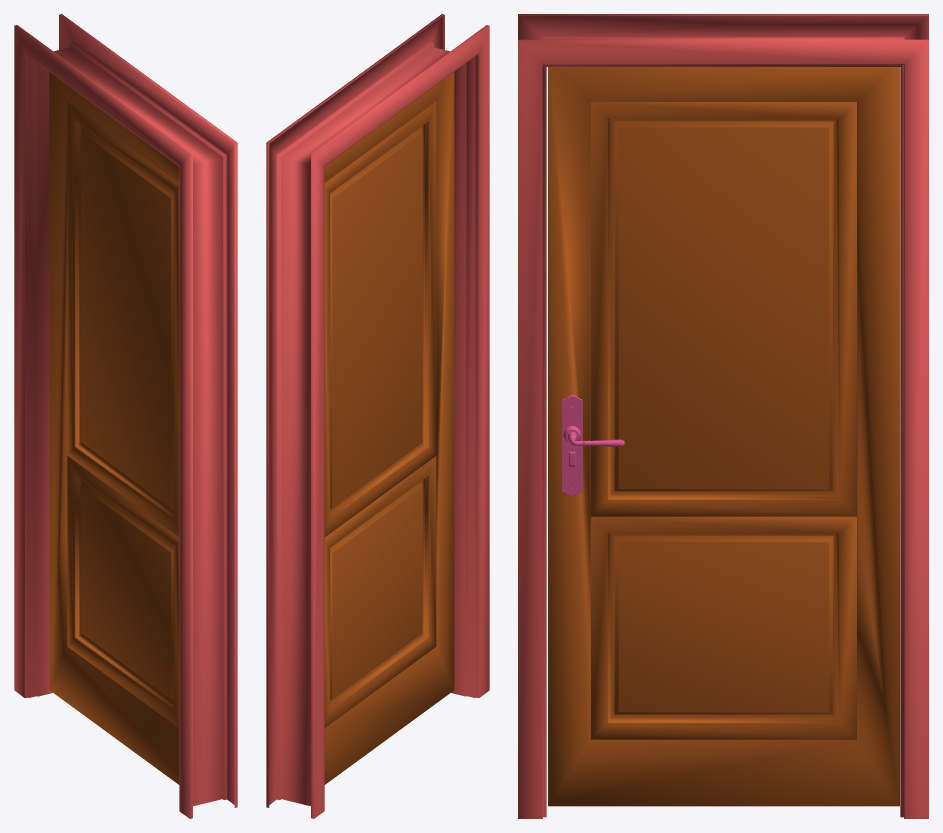
Rendered from Vintage-Door.obj.
3 views of the same model, side by side, from view 1: azimuth 30°, elevation 25°; view 2: azimuth 150°, elevation 25°; view 3: azimuth 270°, elevation 25° (orthographic). The views are drawn at different scales.
Parts seen in each view (by area): view 1: Door_Sheet001, Door_Panel001; view 2: Door_Sheet001, Door_Panel001; view 3: Door_Sheet001, Door_Panel001, Handle001.
Part boxes in pixels (x1,y1,x2,y2): Door_Sheet001: [49, 72, 179, 784]; Door_Panel001: [14, 14, 237, 818]; Door_Sheet001: [324, 72, 454, 784]; Door_Panel001: [266, 14, 489, 818]; Door_Sheet001: [548, 67, 899, 806]; Door_Panel001: [518, 14, 928, 818]; Handle001: [561, 395, 624, 496].
Bounding box in the file's own units: 7.52 × 89.57 × 42.87.
